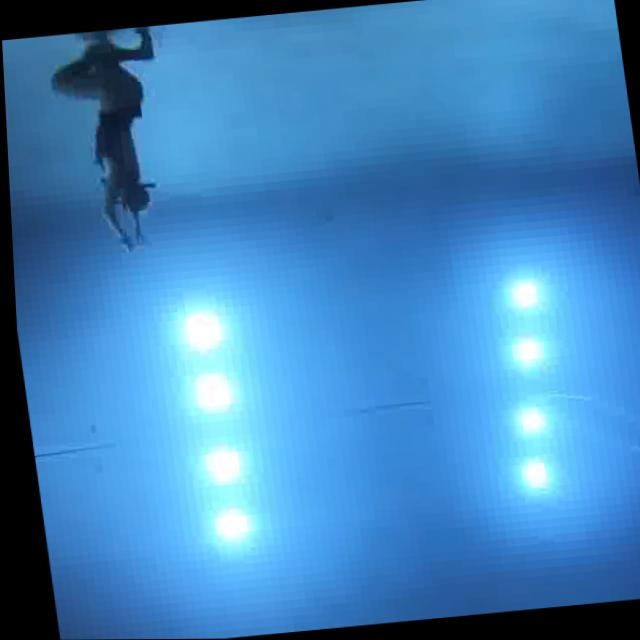human: (44, 25, 188, 265)
